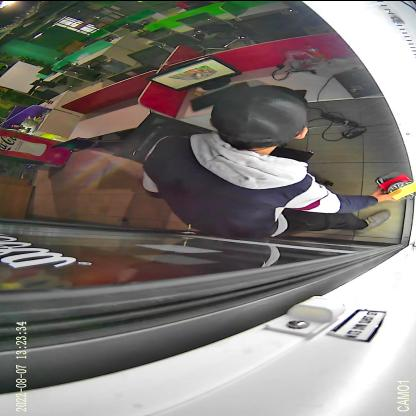red: (374, 170, 414, 193)
yellow: (387, 180, 416, 200)
